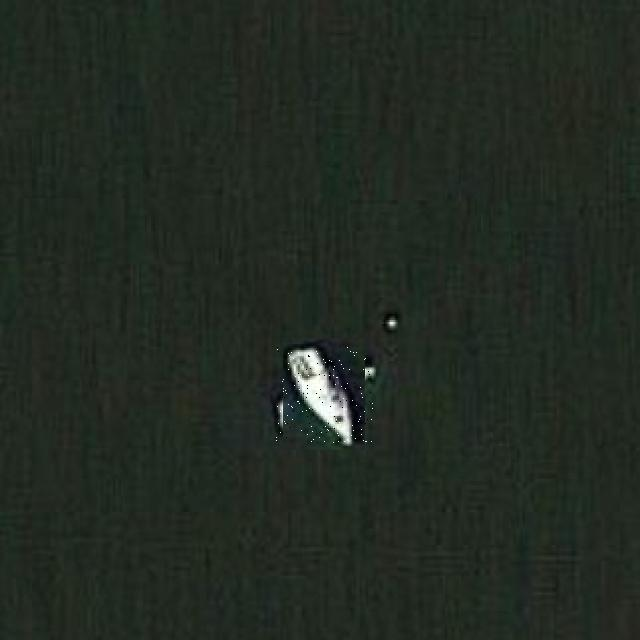boat: (275, 346, 373, 443)
